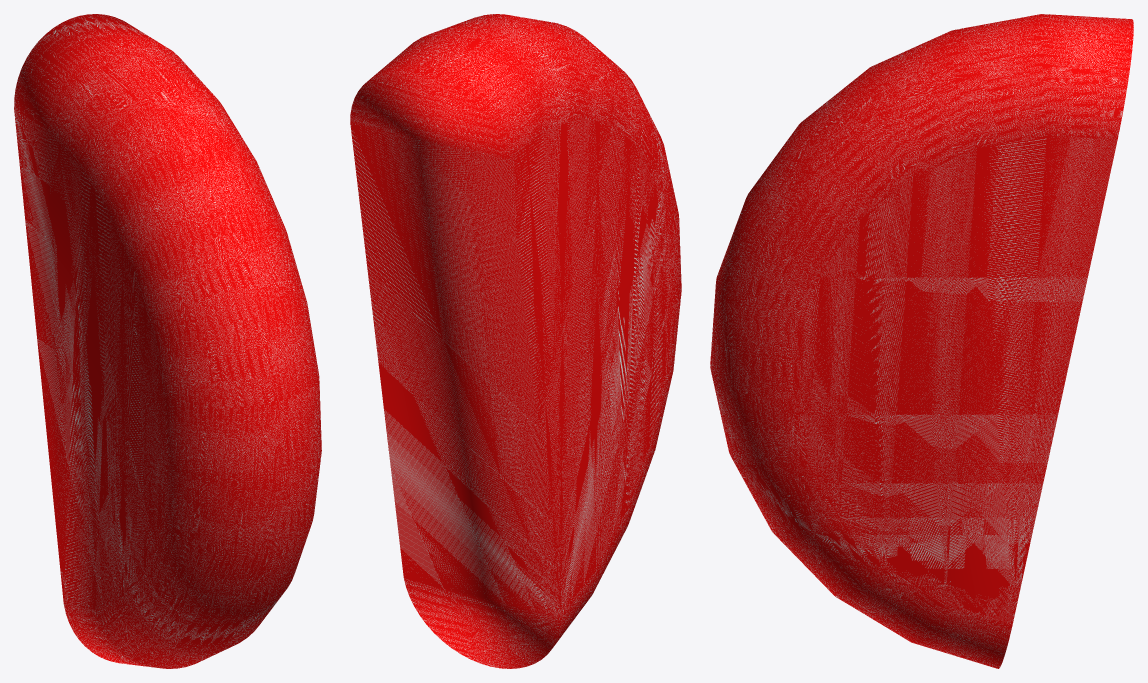
The model's file is original-10.obj.
3 views of the same model, side by side, from view 1: azimuth 30°, elevation 25°; view 2: azimuth 150°, elevation 25°; view 3: azimuth 270°, elevation 25° (orthographic). The views are drawn at different scales.
Parts seen in each view (by area): view 1: mesh78/mesh78-geometry#mesh78-geometry; view 2: mesh78/mesh78-geometry#mesh78-geometry; view 3: mesh78/mesh78-geometry#mesh78-geometry.
Part boxes in pixels (x1,y1,x2,y2): mesh78/mesh78-geometry#mesh78-geometry: (14, 14, 321, 668); mesh78/mesh78-geometry#mesh78-geometry: (350, 14, 681, 668); mesh78/mesh78-geometry#mesh78-geometry: (710, 14, 1133, 668).
Size of the model in its own units: 0.0155 by 0.0612 by 0.0368.
